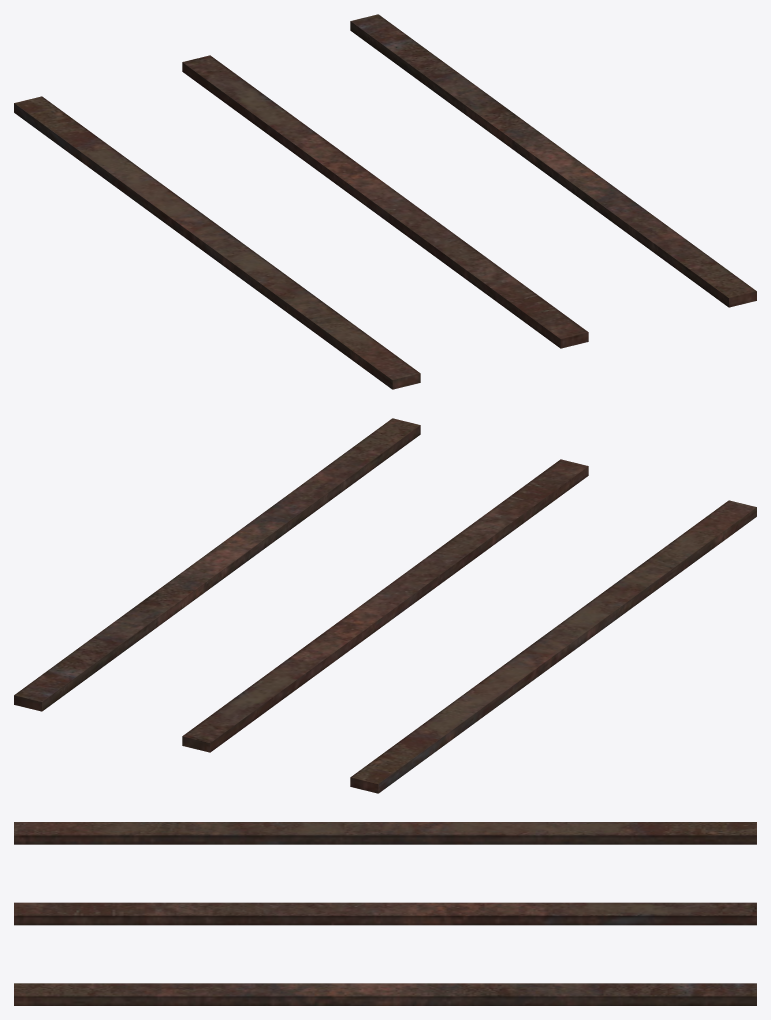
File: TankMetalBars.FBX
3 views of the same model, one above another, from view 1: azimuth 30°, elevation 25°; view 2: azimuth 150°, elevation 25°; view 3: azimuth 270°, elevation 25° (orthographic).
Visible parts, largest first — view 1: TankMetalBars; view 2: TankMetalBars; view 3: TankMetalBars.
Boxes of the visible parts, x1,y1,x2,y2 form: TankMetalBars: (14,14,756,389); TankMetalBars: (14,418,756,793); TankMetalBars: (14,822,756,1005).
Bounding box in the file's own units: 147 × 3.64 × 264.
